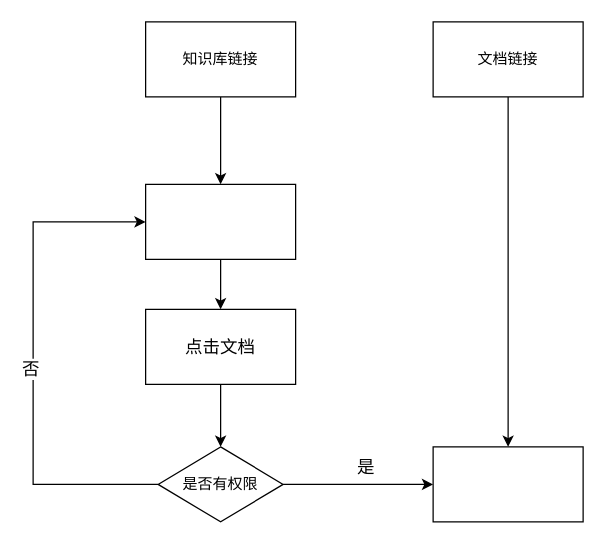
This 605x544 diagram has some shape labels left out. Here are the shapes that lost their labels. From the top down, the box of each, then its label:
(144, 183, 296, 259): 知识库页面
(432, 446, 583, 522): 文档页面
